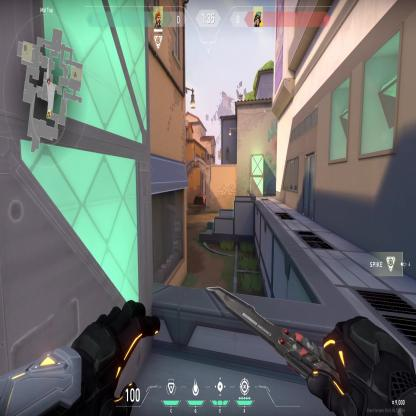enemy: (202, 191, 206, 213)
